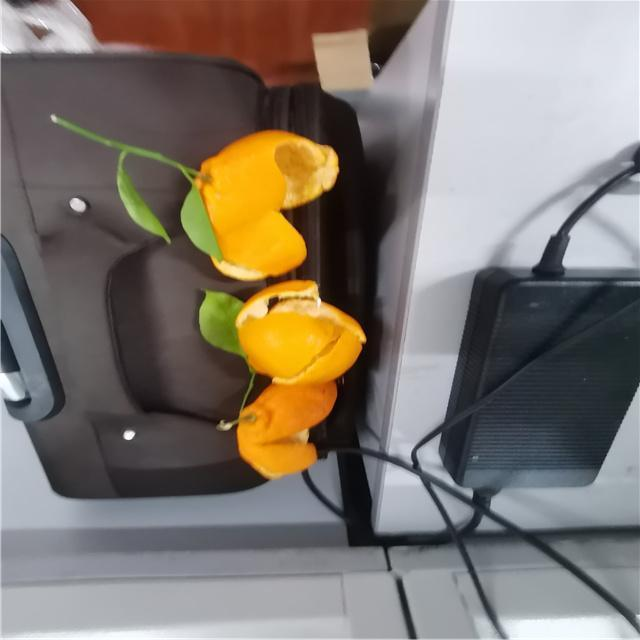orange peel: (180, 136, 342, 278), (231, 272, 370, 388), (237, 377, 343, 480)
